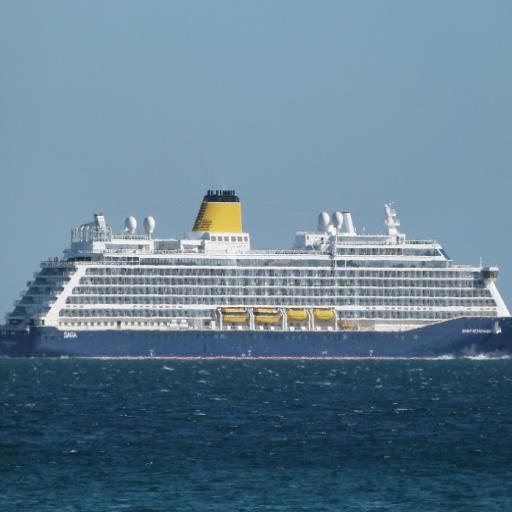cruises: (1, 188, 512, 369)
